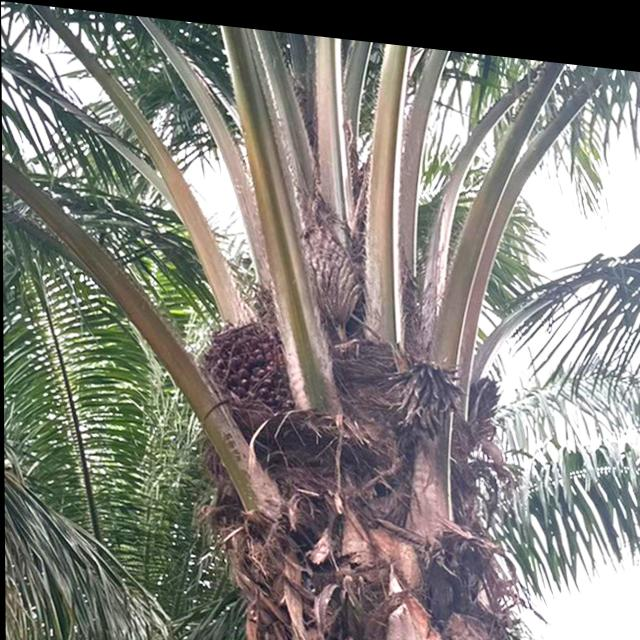ripe: (200, 296, 300, 411)
